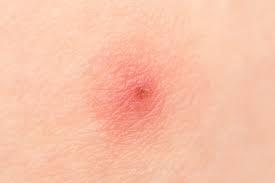Tick: (89, 42, 165, 132)
